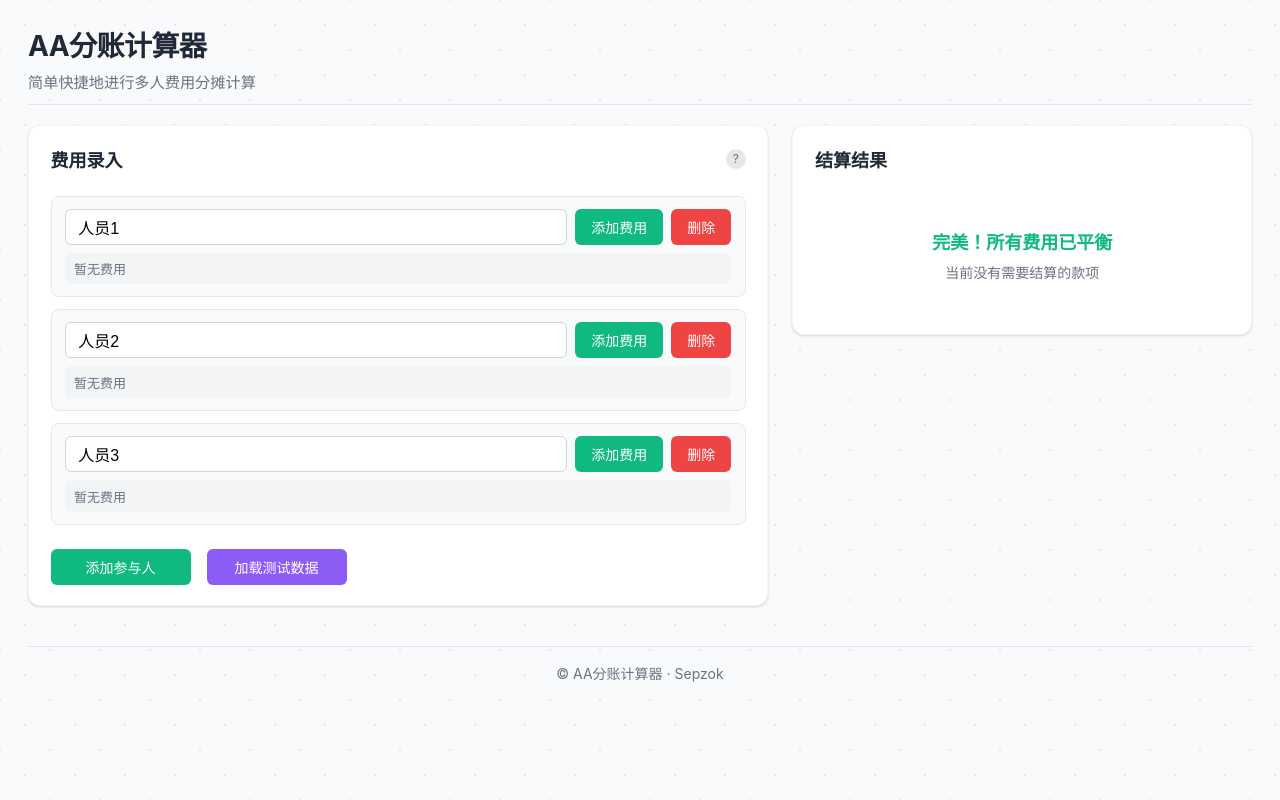
Test: AA分账计算器详细功能测试 › 测试修改费用金额
The width and height of the screenshot is (1280, 800).
Click the 1st button with class "add-expense-btn": (619, 227) top-left (575, 209), bottom-right (663, 245)
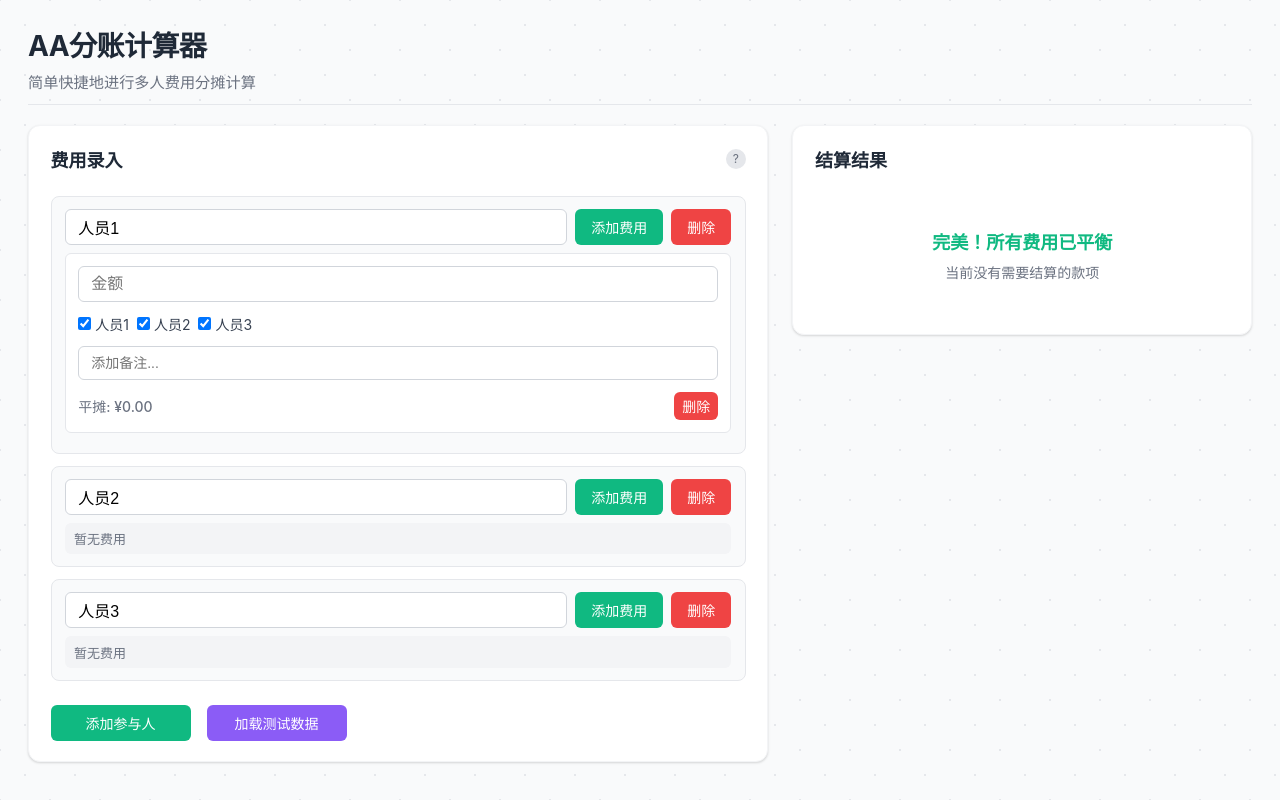
In the number field with class "expense-amount": (398, 284) top-left (78, 266), bottom-right (718, 302), type "100"
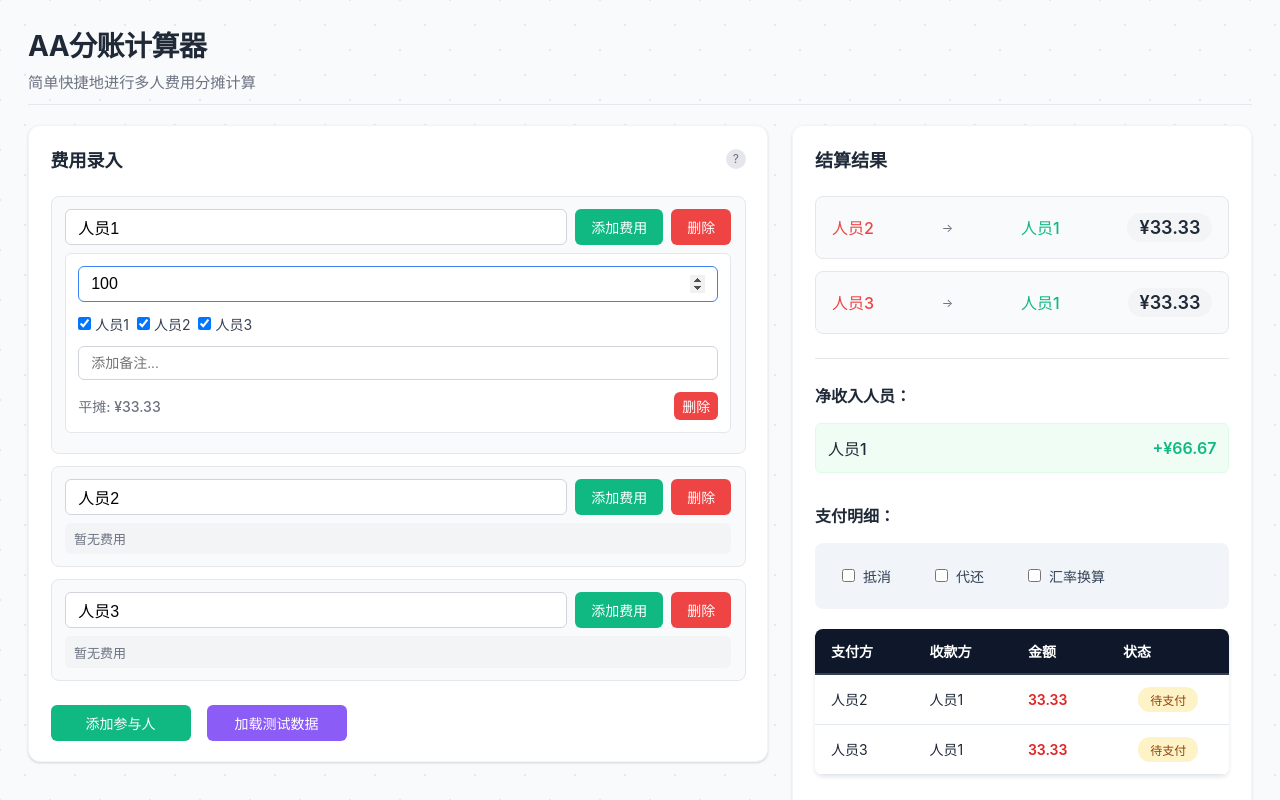
Replace the text in the number field with class "expense-amount" with "200": (398, 284) top-left (78, 266), bottom-right (718, 302)
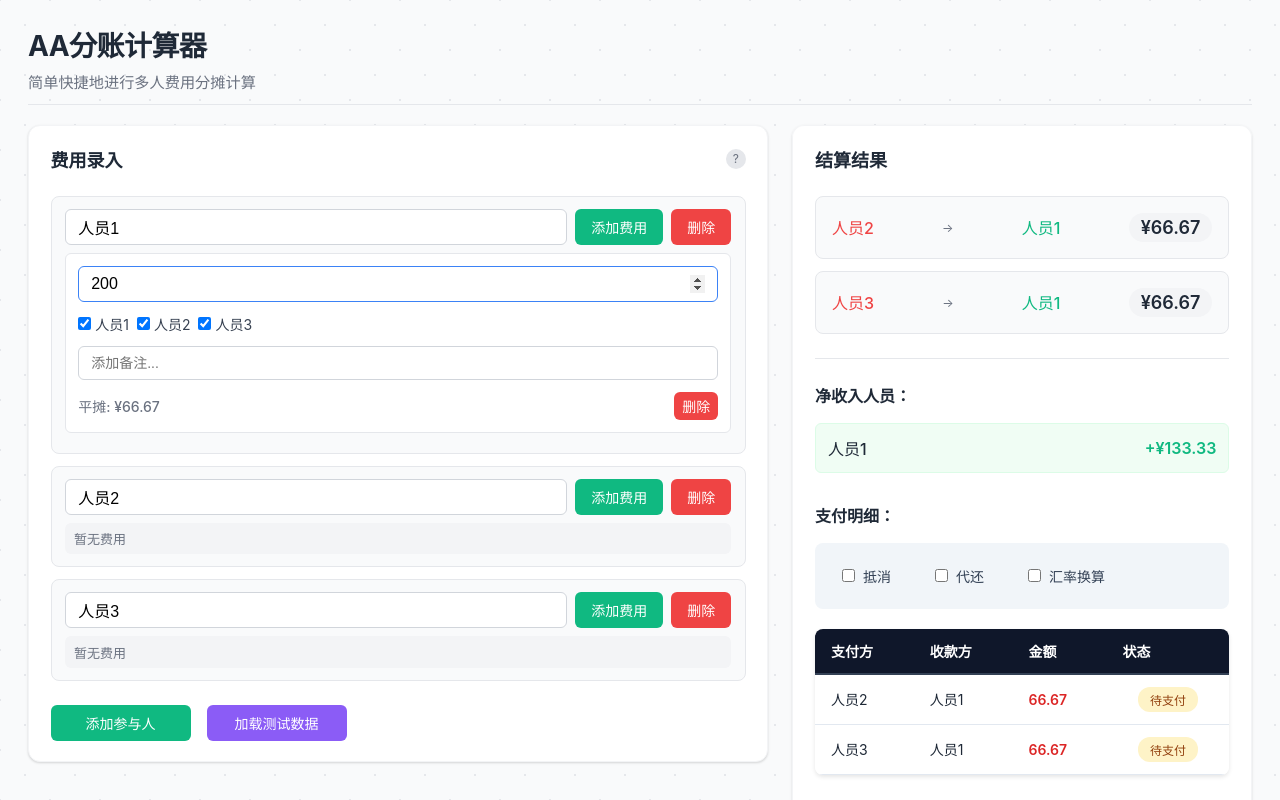
Now the number field with class "expense-amount" holds "200", box top-left (78, 266), bottom-right (718, 302)
